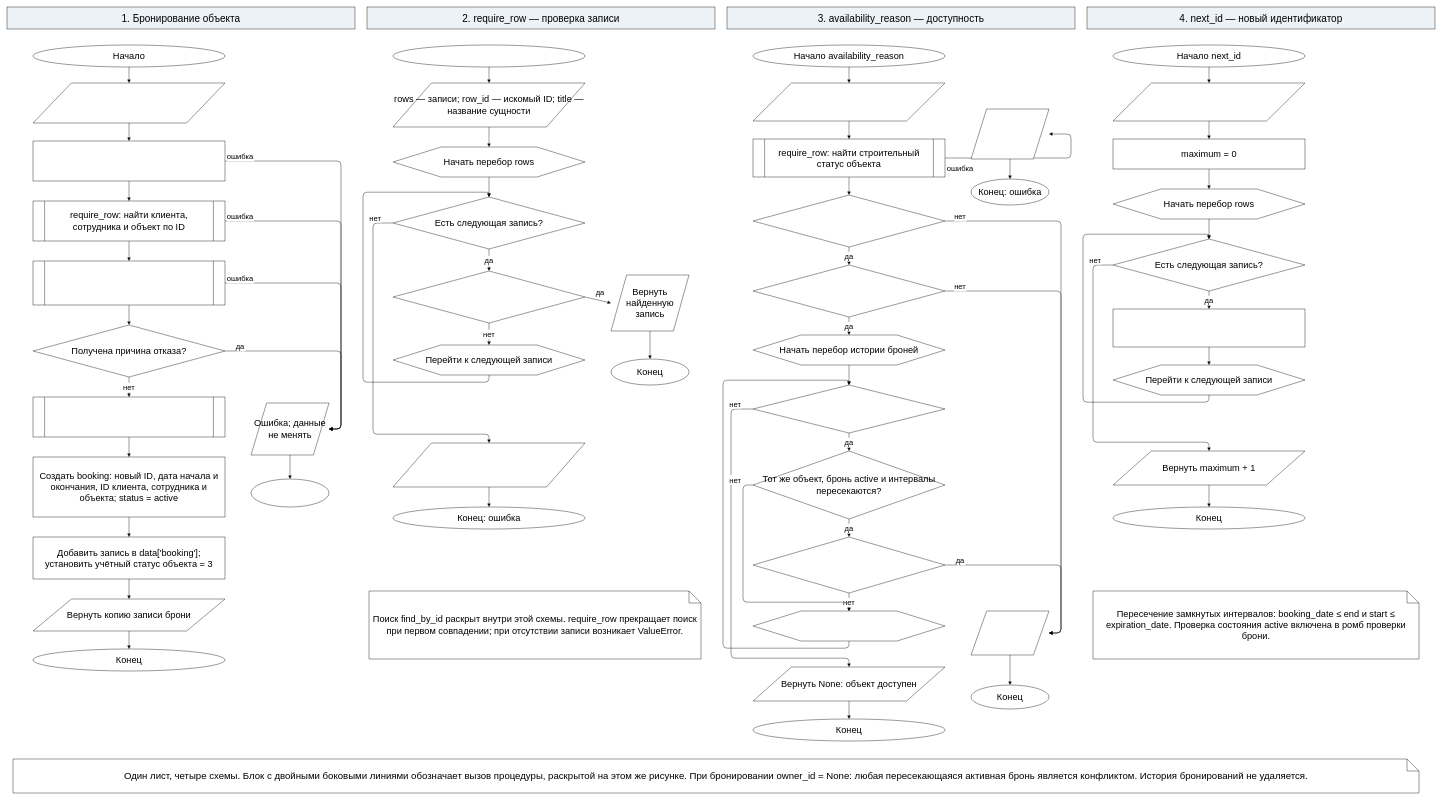
This 1442x800 diagram has some shape labels left out. The shapes that lost their labels are listed below. From the top down, each one's centre as x and y in pixels, then its label:
At point 489,56: "Начало require_row".
At point 129,103: "data, object_id, client_id, employee_id, as_of".
At point 849,102: "data, obj, start, end, owner_id = None".
At point 1209,102: "rows — записи; field = 'id'".
At point 1010,134: "Передать ValueError: статус не найден".
At point 129,161: "Распознать дату as_of; expiration = as_of + 14 дней".
At point 849,221: "Продажа разрешена строительным статусом?".
At point 129,283: "availability_reason(data, obj, as_of, expiration); owner_id = None".
At point 489,297: "ID записи равен row_id?".
At point 849,291: "Учётный статус объекта равен 2 или 3?".
At point 1209,328: "maximum = max(maximum, row[field])".
At point 129,417: "next_id(data['booking']) — получить ID новой брони".
At point 849,409: "Есть следующая бронь?".
At point 489,465: "ValueError: запись с указанным ID не найдена".
At point 290,493: "Конец: отказ".
At point 849,565: "owner_id = None или бронь другого клиента?".
At point 849,626: "Перейти к следующей брони".
At point 1010,633: "Вернуть причину отказа".
